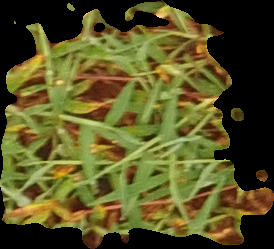grass: (1, 1, 273, 246)
